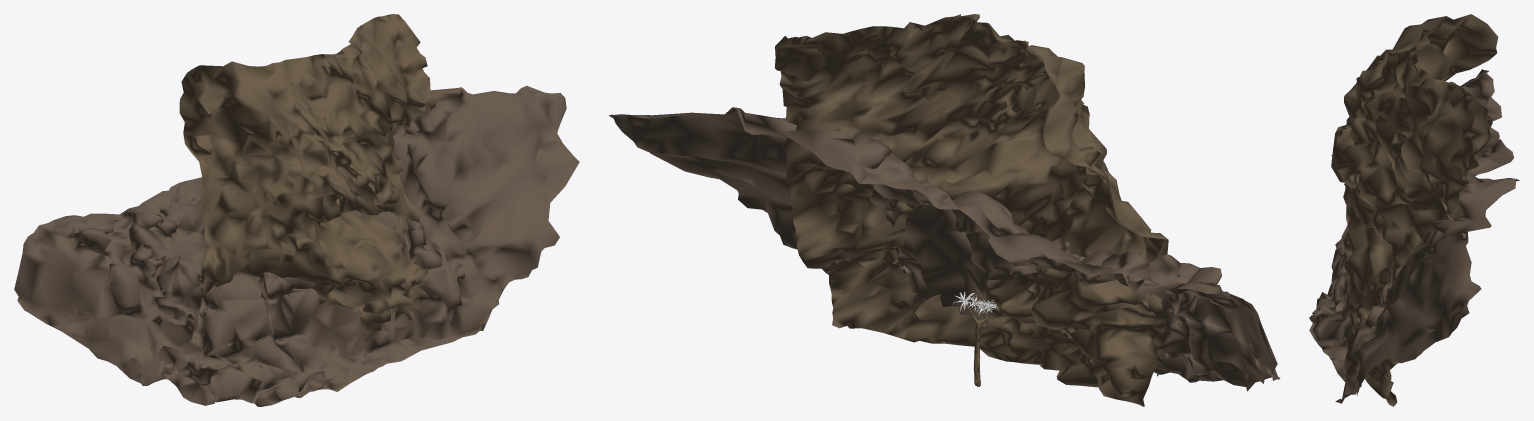
File: backdrop.glb
The picture shows the model from 3 angles, left to right: view 1: azimuth 30°, elevation 25°; view 2: azimuth 150°, elevation 25°; view 3: azimuth 270°, elevation 25°; orthographic projection. The views are drawn at different scales.
Parts seen in each view (by area): view 1: cliff_LOD0, mountain_LOD0; view 2: mountain_LOD0, cliff_LOD0, tree-quiver_LOD0; view 3: mountain_LOD0, cliff_LOD0.
Boxes of the visible parts, <box> form: cliff_LOD0: <box>14,85,579,406</box>; mountain_LOD0: <box>179,14,436,340</box>; mountain_LOD0: <box>775,14,1168,406</box>; cliff_LOD0: <box>609,107,1280,391</box>; tree-quiver_LOD0: <box>953,291,997,386</box>; mountain_LOD0: <box>1331,14,1498,406</box>; cliff_LOD0: <box>1309,69,1519,403</box>.
Size of what is drawn, in the model's own units: 20.2 by 10.52 by 6.58.
